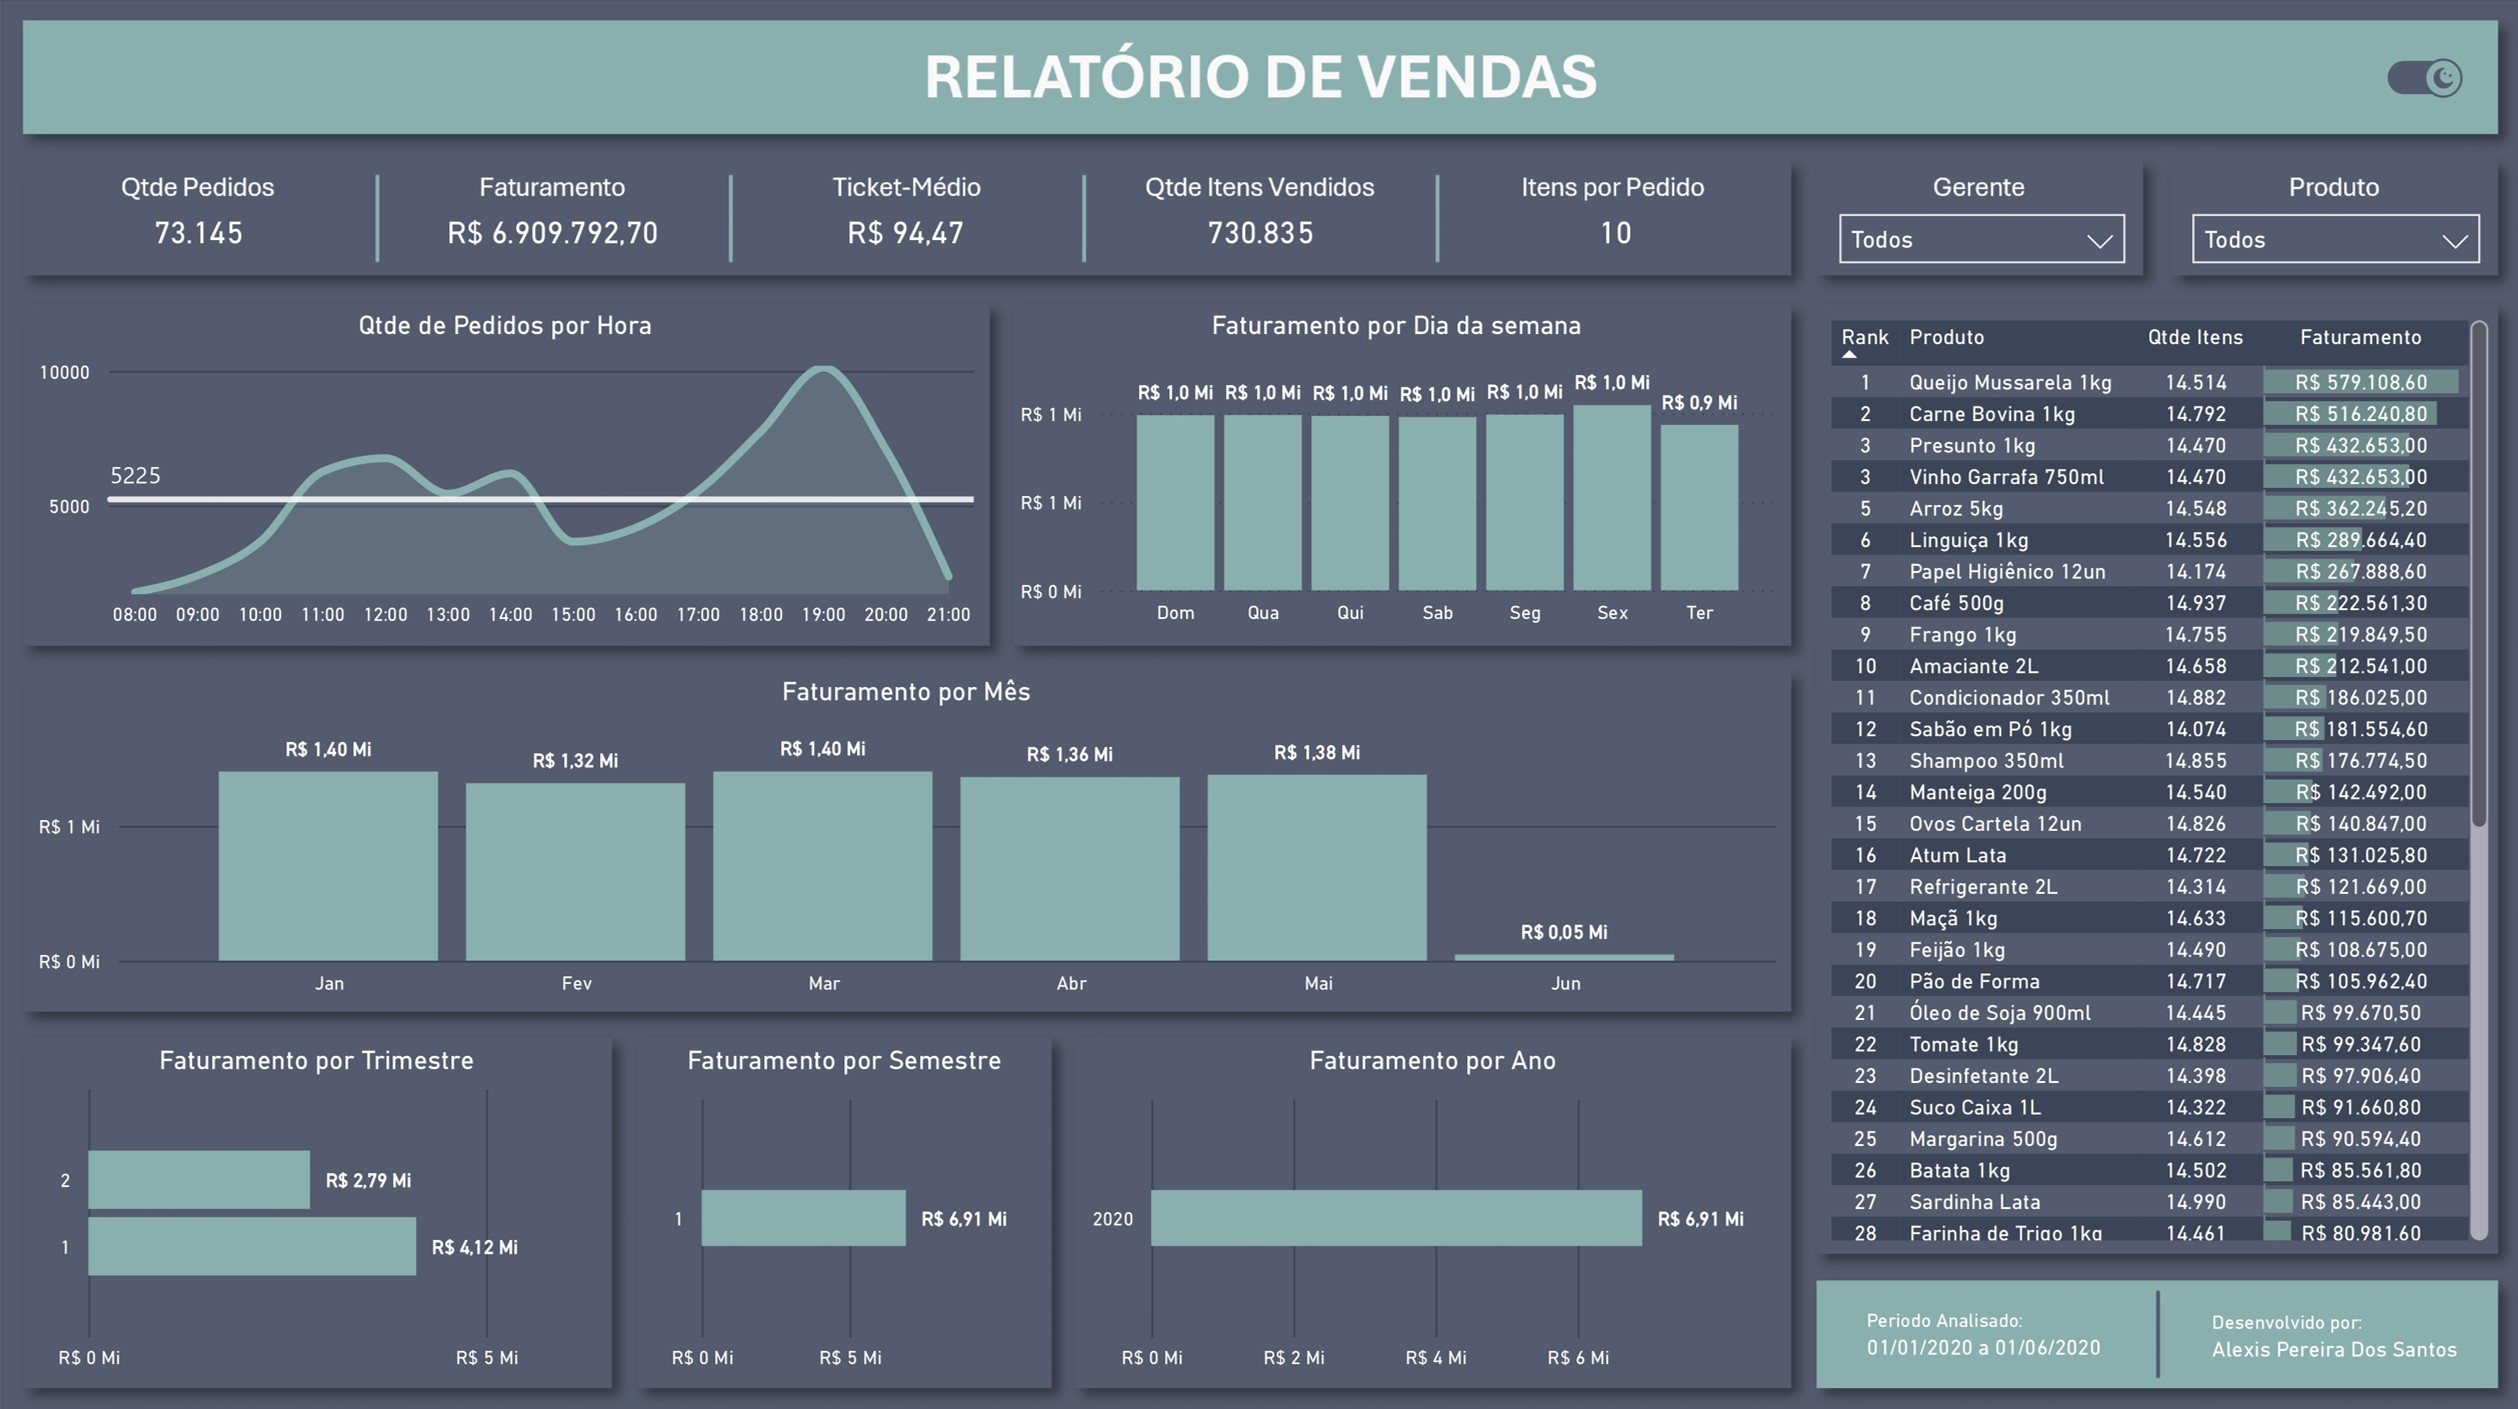

This screenshot's page, from the dashboard's own definition file:
{"tool":"powerbi","page":{"name":"RELATORIO_BI_Dark","canvas":[1280,720],"ordinal":1},"visuals":[{"type":"columnChart","title":"Faturamento por Dia da semana","fields":{"Category":["gold dim_calendario.dia_nome"],"Y":["gold fato_vendas.Faturamento"]},"box":[511.8,158.2,393.6,167.3],"z":0},{"type":"cardVisual","fields":{"Data":["gold fato_vendas.Faturamento"]},"box":[193.8,95,173,44],"z":1000},{"type":"cardVisual","fields":{"Data":["gold fato_vendas.QTD_PEDIDOS"]},"box":[14.7,95,172.7,44],"z":2000},{"type":"cardVisual","fields":{"Data":["gold fato_vendas.QTD_ITENS"]},"box":[553.2,95,173,44],"z":3000},{"type":"cardVisual","fields":{"Data":["gold fato_vendas.ITENS_P_PEDIDO"]},"box":[732.7,95,173.3,44],"z":4000},{"type":"cardVisual","fields":{"Data":["gold fato_vendas.TICKET_MÉDIO"]},"box":[373.3,95,173.3,44],"z":5000},{"type":"columnChart","title":"Faturamento por Mês","fields":{"Category":["gold dim_calendario.mes_abreviado"],"Y":["gold fato_vendas.Faturamento"]},"box":[14.4,343.8,891.2,169.4],"z":6000},{"type":"clusteredBarChart","title":"Faturamento por Ano","fields":{"Category":["gold dim_calendario.ano"],"Y":["gold fato_vendas.Faturamento"]},"box":[547.5,530.6,358.1,172.5],"z":7000},{"type":"clusteredBarChart","title":"Faturamento por Semestre","fields":{"Category":["gold dim_calendario.semestre"],"Y":["gold fato_vendas.Faturamento"]},"box":[325,530.6,206.9,172.5],"z":8000},{"type":"slicer","fields":{"Values":["gold dim_lojas.gerente"]},"box":[922.9,99.2,165.3,39.5],"z":9000},{"type":"slicer","fields":{"Values":["gold dim_produtos.produto"]},"box":[1101.8,99.2,165.8,39.5],"z":10000},{"type":"clusteredBarChart","title":"Faturamento por Trimestre","fields":{"Category":["gold dim_calendario.trimestre"],"Y":["gold fato_vendas.Faturamento"]},"box":[14.4,530.6,293.8,172.5],"z":11000},{"type":"image","box":[1210,30,40,20],"z":12000},{"type":"tableEx","fields":{"Values":["gold fato_vendas.RANK_PROD","gold dim_produtos.produto","gold fato_vendas.QTD_ITENS","gold fato_vendas.Faturamento"]},"box":[922.7,158.2,344.5,476.4],"z":13000},{"type":"cardVisual","fields":{"Data":["gold dim_calendario.data_inicio"]},"box":[928.7,657.2,156.7,41.4],"z":14000},{"type":"cardVisual","fields":{"Data":["gold dim_calendario.Desenvolvido"]},"box":[1105,658,161,41],"z":15000},{"type":"lineChart","title":"Qtde de Pedidos por Hora","fields":{"Category":["gold fato_vendas.inicio_hora"],"Y":["gold fato_vendas.QTD_PEDIDOS"]},"box":[14.4,158.1,485,167.5],"z":16000}]}

Visuals, with their boxes in screenshot pixels (x1, y1, x2, y2), scaled from the page's 1280x720 canvas onto the 2518x1409 screenshot:
"Faturamento por Dia da semana" columnChart: bbox=(1007, 310, 1781, 637)
cardVisual - gold fato_vendas.Faturamento: bbox=(381, 186, 722, 272)
cardVisual - gold fato_vendas.QTD_PEDIDOS: bbox=(29, 186, 369, 272)
cardVisual - gold fato_vendas.QTD_ITENS: bbox=(1088, 186, 1429, 272)
cardVisual - gold fato_vendas.ITENS_P_PEDIDO: bbox=(1441, 186, 1782, 272)
cardVisual - gold fato_vendas.TICKET_MÉDIO: bbox=(734, 186, 1075, 272)
"Faturamento por Mês" columnChart: bbox=(28, 673, 1781, 1004)
"Faturamento por Ano" clusteredBarChart: bbox=(1077, 1038, 1781, 1376)
"Faturamento por Semestre" clusteredBarChart: bbox=(639, 1038, 1046, 1376)
slicer - gold dim_lojas.gerente: bbox=(1816, 194, 2141, 271)
slicer - gold dim_produtos.produto: bbox=(2167, 194, 2494, 271)
"Faturamento por Trimestre" clusteredBarChart: bbox=(28, 1038, 606, 1376)
image: bbox=(2380, 59, 2459, 98)
tableEx - gold fato_vendas.RANK_PROD x gold dim_produtos.produto: bbox=(1815, 310, 2493, 1242)
cardVisual - gold dim_calendario.data_inicio: bbox=(1827, 1286, 2135, 1367)
cardVisual - gold dim_calendario.Desenvolvido: bbox=(2174, 1288, 2490, 1368)
"Qtde de Pedidos por Hora" lineChart: bbox=(28, 309, 982, 637)
